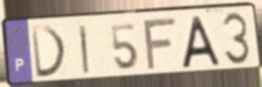3: (220, 10, 252, 68)
5: (109, 22, 140, 71)
A: (179, 14, 223, 70)
D: (30, 24, 70, 80)
F: (141, 15, 179, 73)
I: (78, 23, 91, 76)
